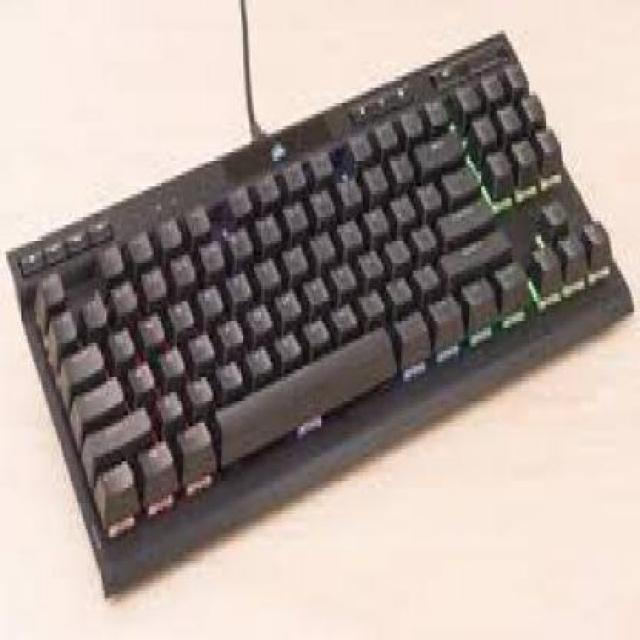keyboard: (17, 61, 639, 599)
